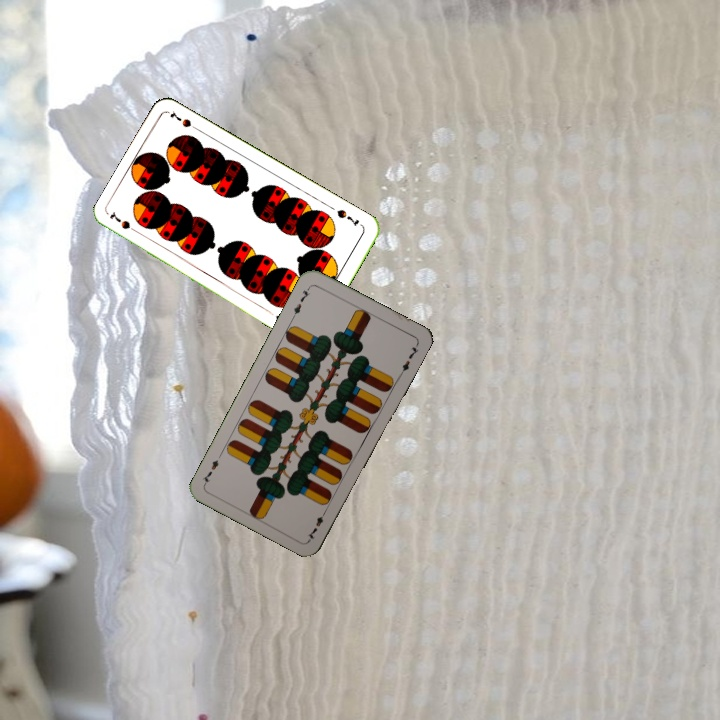E7: (303, 505, 329, 542), (288, 282, 313, 320)
S7: (105, 208, 143, 236), (333, 205, 362, 229)
